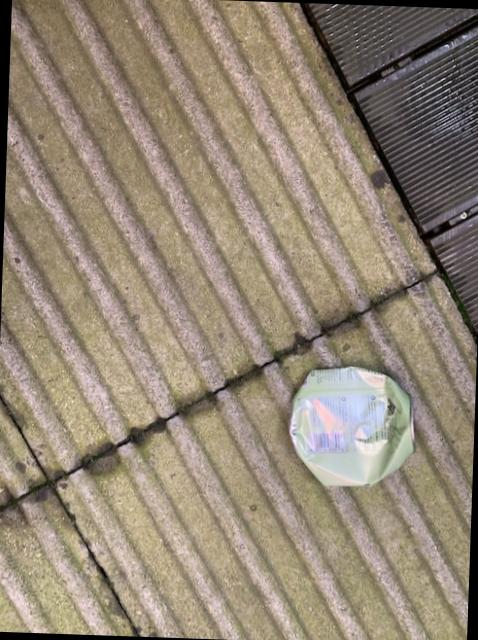metal: (288, 366, 412, 485)
